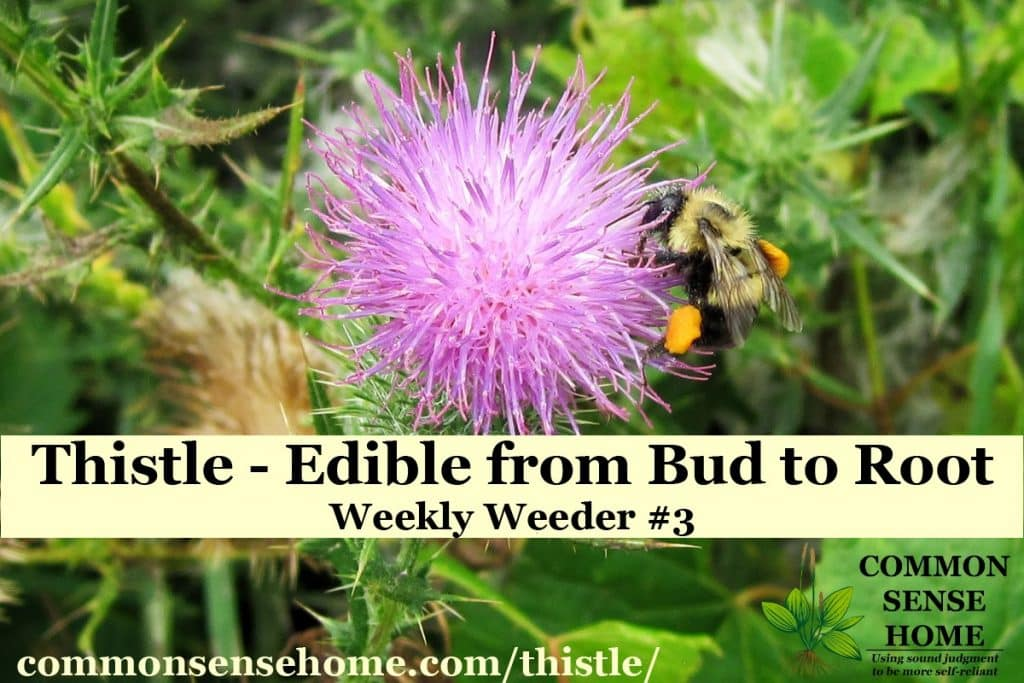thistle: (247, 44, 718, 452)
